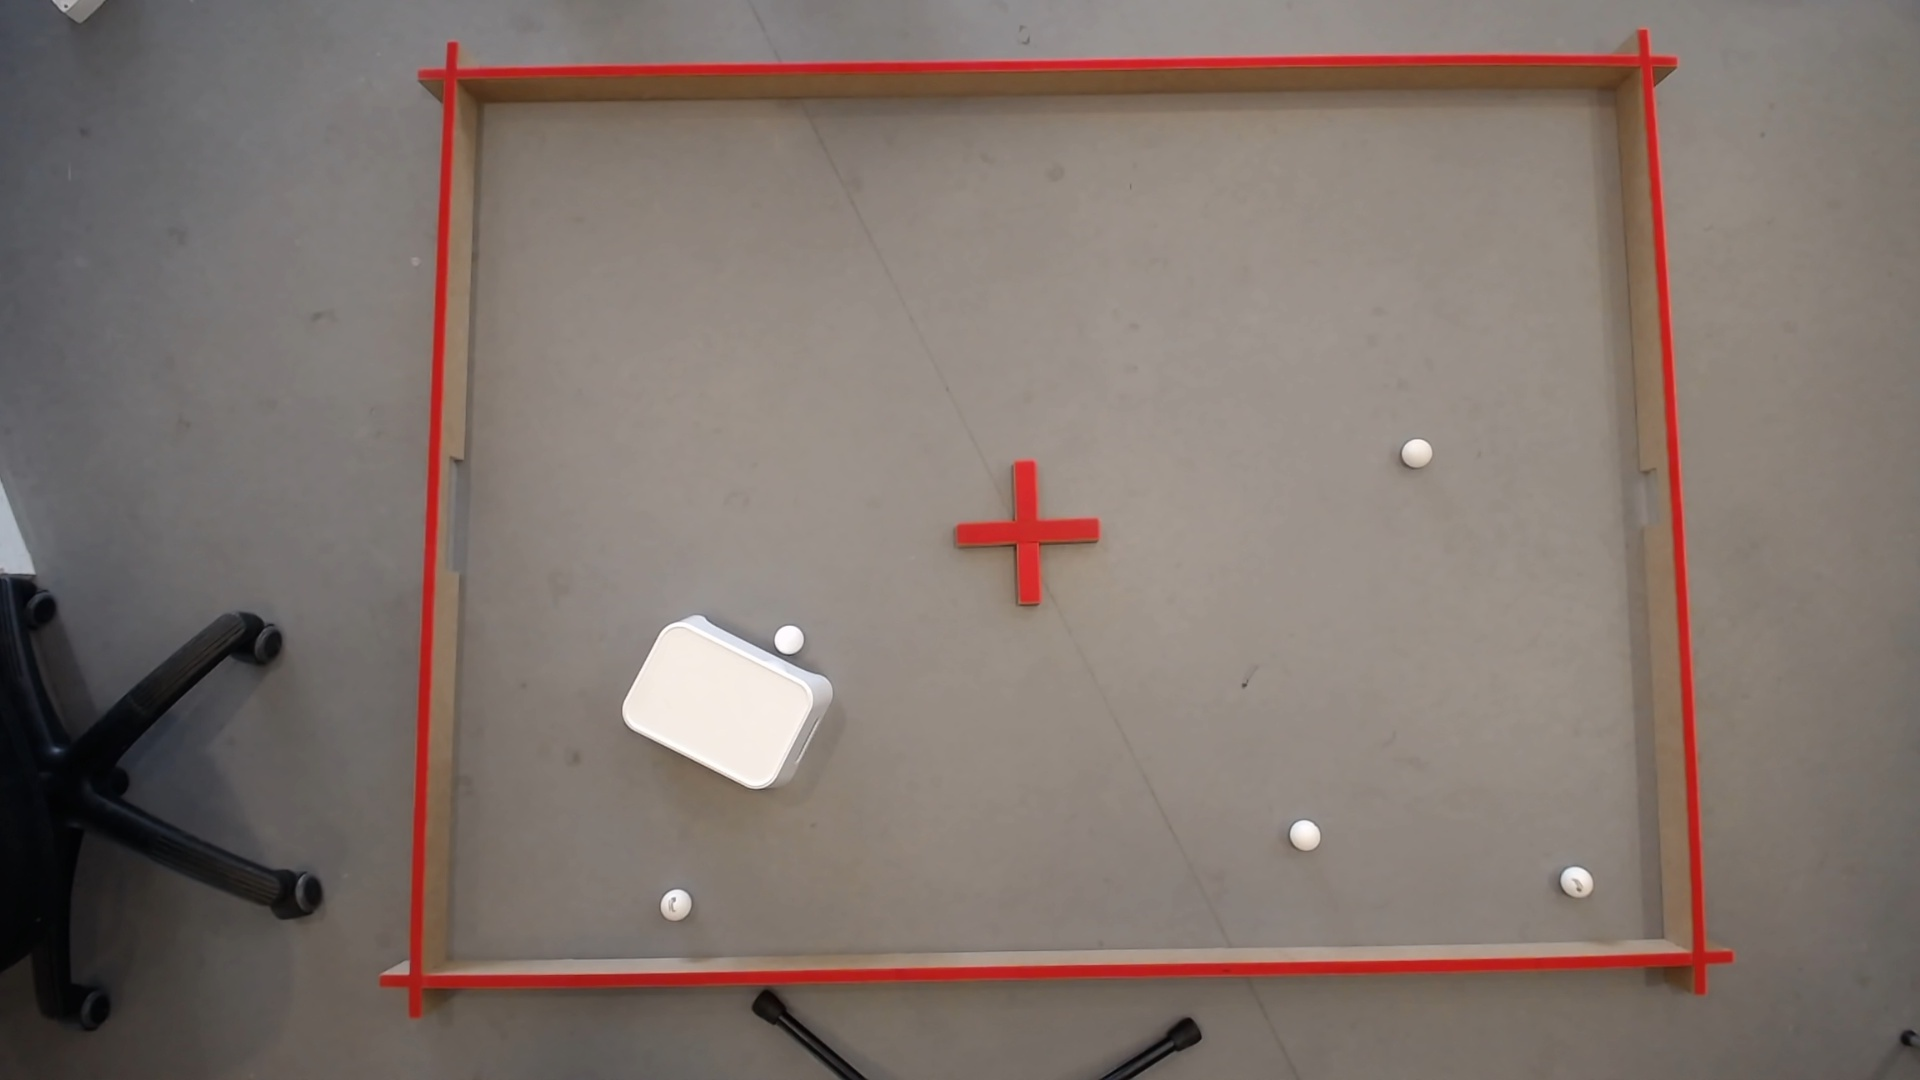balls: (613, 601, 828, 796), (769, 618, 807, 658), (654, 884, 694, 922), (1286, 814, 1324, 851)
car: (1400, 433, 1435, 465)
